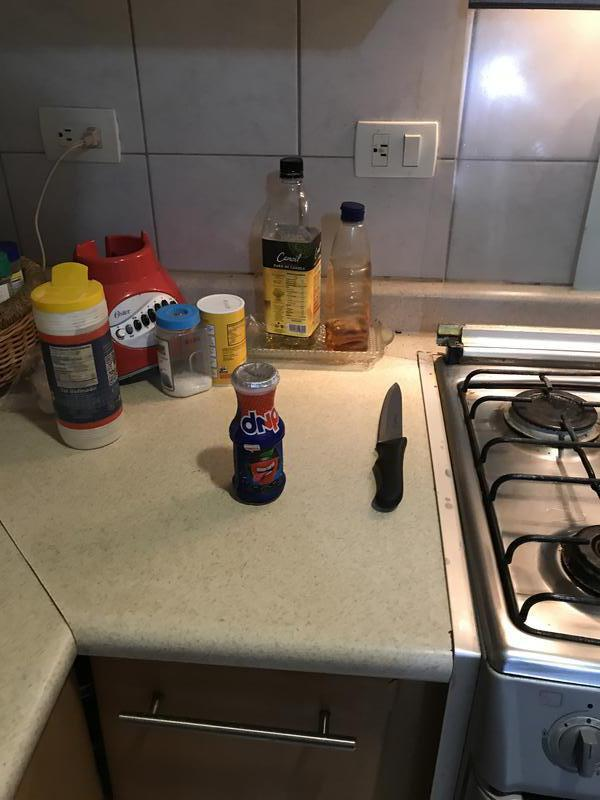danup: (225, 360, 289, 504)
